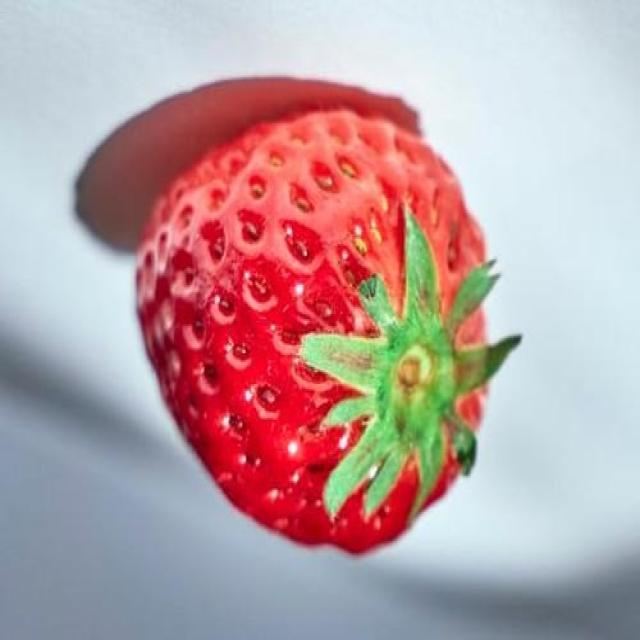mature: (137, 108, 484, 558)
